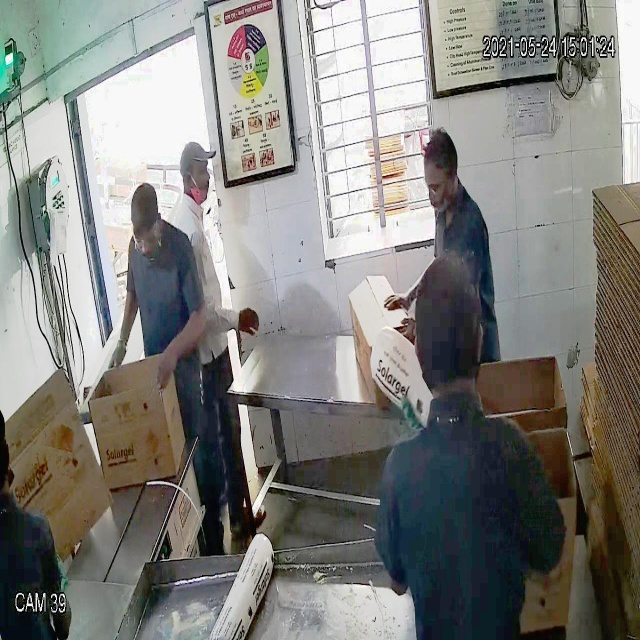Gafas: (128, 221, 161, 252)
